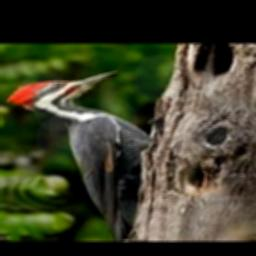Woodpecker: (6, 70, 153, 241)
